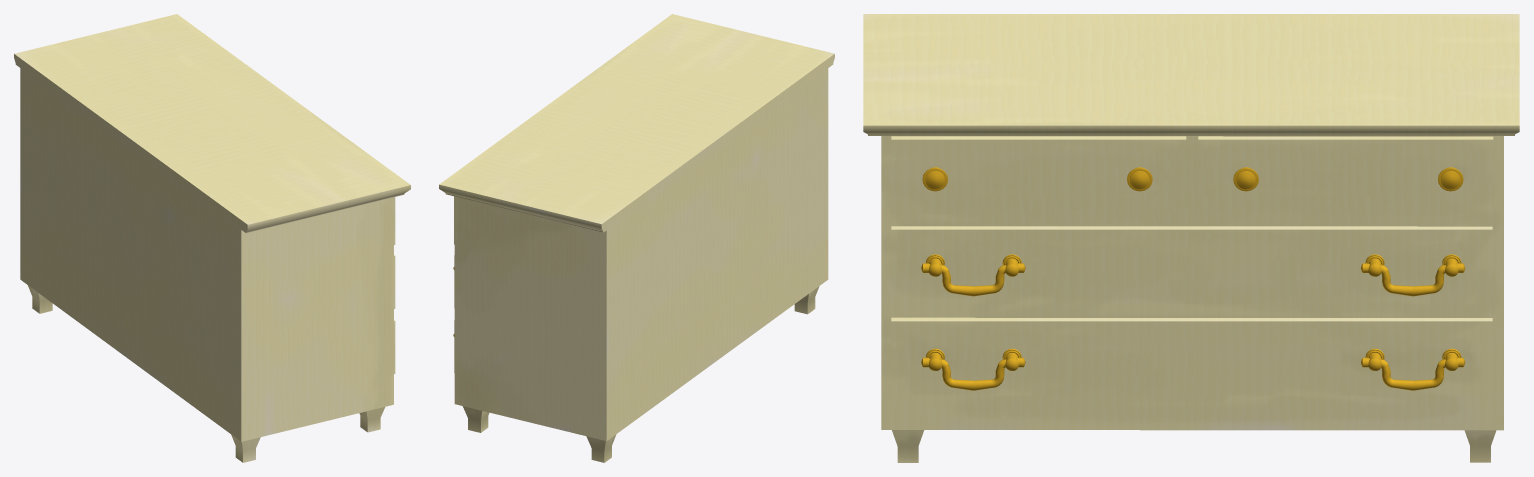
The model's file is mrdresser.fbx.
The picture shows the model from 3 angles, left to right: view 1: azimuth 30°, elevation 25°; view 2: azimuth 150°, elevation 25°; view 3: azimuth 270°, elevation 25°; orthographic projection. The views are drawn at different scales.
Visible parts, largest first — view 1: pCylinder11; view 2: pCylinder11; view 3: pCylinder11.
Part boxes in pixels (bbox=[...]): pCylinder11: bbox=[14, 14, 410, 462]; pCylinder11: bbox=[439, 14, 834, 462]; pCylinder11: bbox=[863, 14, 1519, 462].
Size of the model in its own units: 1.12 by 1.56 by 2.65.
